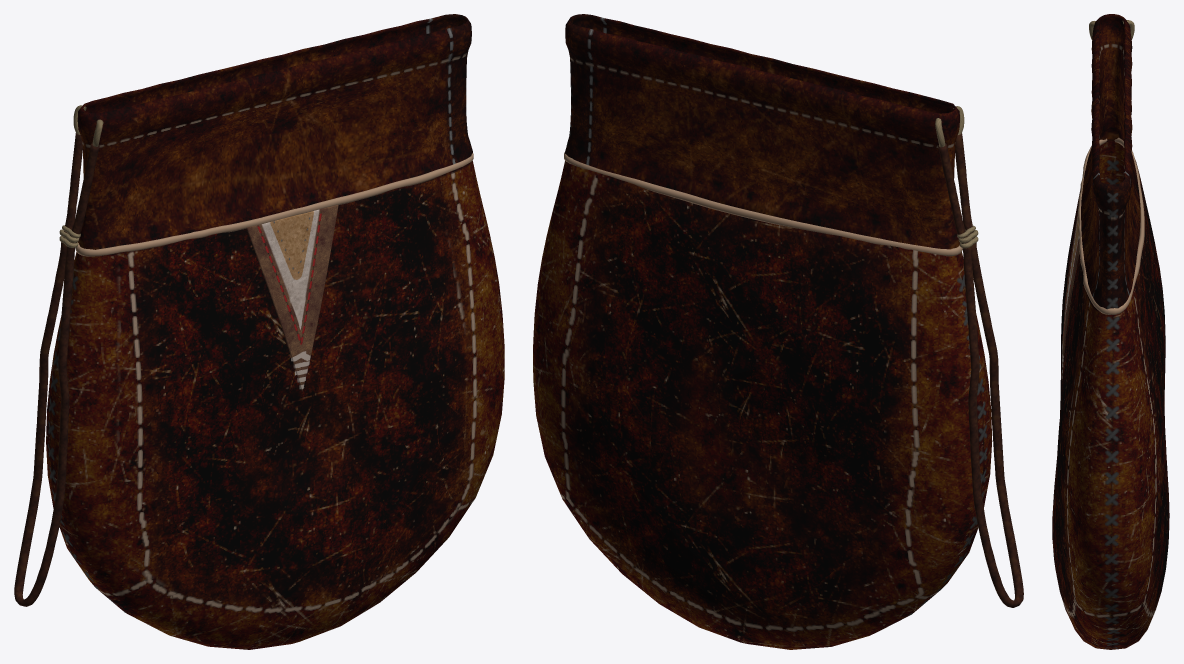
Rendered from sac.fbx.
3 views of the same model, side by side, from view 1: azimuth 30°, elevation 25°; view 2: azimuth 150°, elevation 25°; view 3: azimuth 270°, elevation 25° (orthographic). The views are drawn at different scales.
Parts seen in each view (by area): view 1: sac_low, Retopo_Cube.009, sac.003, sac.002; view 2: sac_low, Retopo_Cube.009, sac.002; view 3: sac_low, sac.002, sac.003.
Boxes of the visible parts, x1,y1,x2,y2 form: sac_low: (46,14,504,649); Retopo_Cube.009: (14,105,103,606); sac.003: (246,204,338,391); sac.002: (75,153,473,256); sac_low: (533,14,992,649); Retopo_Cube.009: (935,106,1023,607); sac.002: (564,152,962,256); sac_low: (1052,14,1169,649); sac.002: (1078,137,1144,314); sac.003: (1061,212,1079,380).
Size of the model in its own units: 262 by 300 by 60.43.
1 material, 1 textured.
